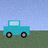vehicle: (3, 21, 30, 38)
